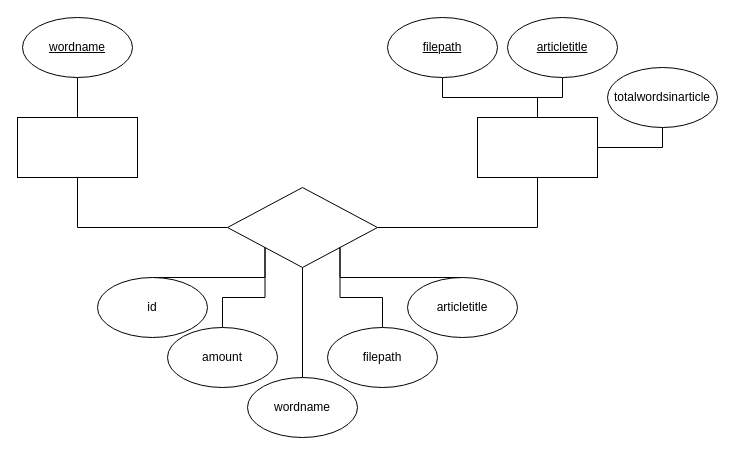
This 735x455 diagram has some shape labels left out. The centre of each missing label's shape, as x and y in pixels:
appearsin: pixel 302 227
filelist: pixel 537 147
wordlist: pixel 77 147
